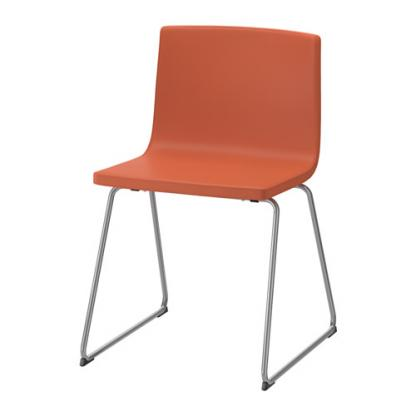Chair: (72, 18, 344, 393)
